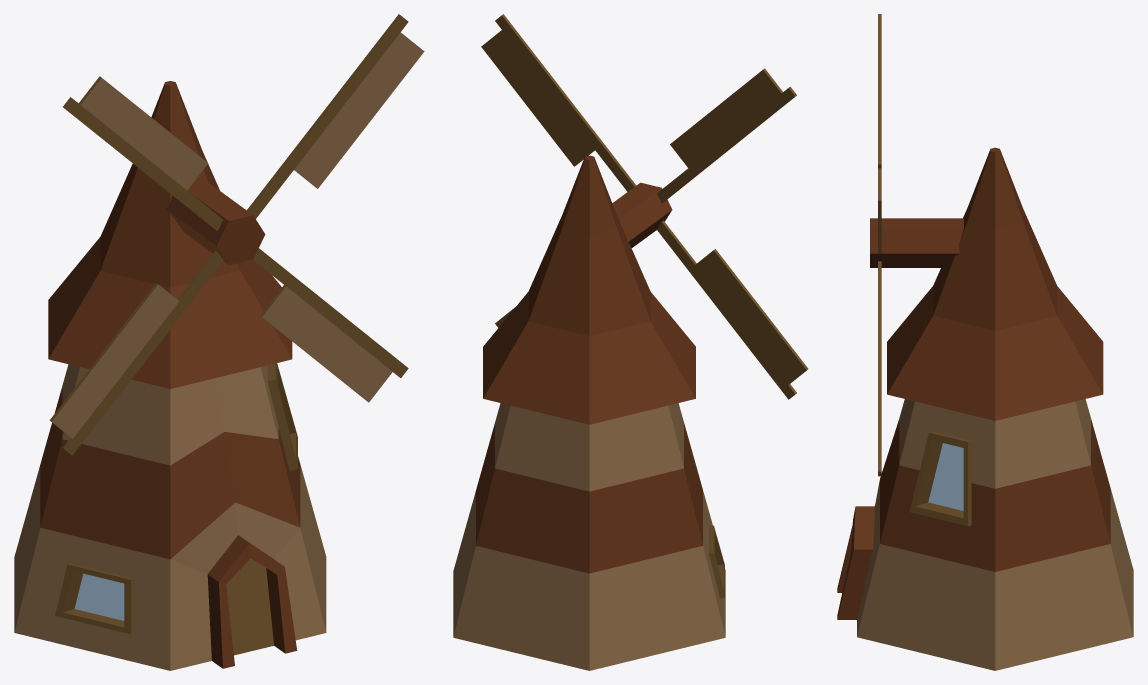
Rendered from Windmill.glb.
3 views of the same model, side by side, from view 1: azimuth 30°, elevation 25°; view 2: azimuth 150°, elevation 25°; view 3: azimuth 270°, elevation 25° (orthographic). The views are drawn at different scales.
Parts seen in each view (by area): view 1: Windmill; view 2: Windmill; view 3: Windmill.
Boxes of the visible parts, left/top/right/bottom form: Windmill: left=14, top=14, right=424, bottom=670; Windmill: left=453, top=14, right=808, bottom=670; Windmill: left=837, top=14, right=1133, bottom=670.
Bounding box in the file's own units: 28.69 × 44 × 22.24.
